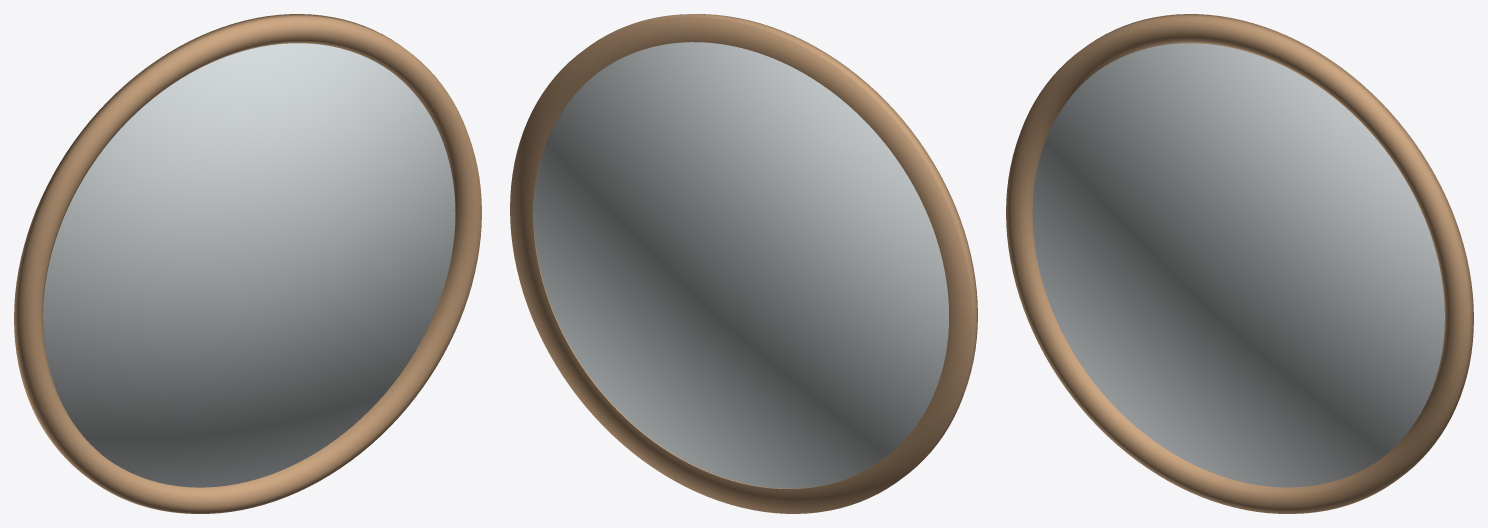
The model's file is habitat-miroir-neptune.glb.
The picture shows the model from 3 angles, left to right: view 1: azimuth 30°, elevation 25°; view 2: azimuth 150°, elevation 25°; view 3: azimuth 330°, elevation 25°; orthographic projection.
Parts seen in each view (by area): view 1: habitat-miroir-neptune; view 2: habitat-miroir-neptune; view 3: habitat-miroir-neptune.
Part boxes in pixels (x1=…): habitat-miroir-neptune: x1=14, y1=14, x2=481, y2=513; habitat-miroir-neptune: x1=510, y1=14, x2=977, y2=513; habitat-miroir-neptune: x1=1006, y1=14, x2=1473, y2=513.
Bounding box in the file's own units: 0.9 × 0.9 × 0.034.
